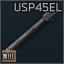HK USP Elite .45 ACP barrel: (0, 0, 64, 64)
